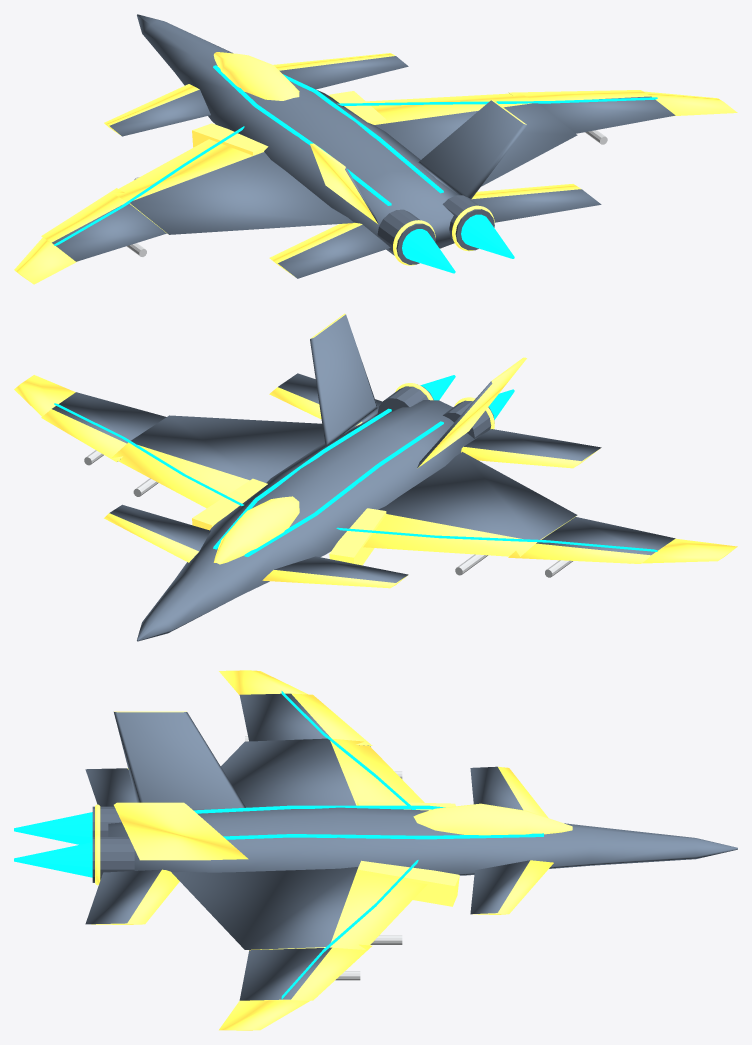
File: Condor_X.glb
The picture shows the model from 3 angles, top to bottom: view 1: azimuth 30°, elevation 25°; view 2: azimuth 150°, elevation 25°; view 3: azimuth 270°, elevation 25°; orthographic projection. The views are drawn at different scales.
Visible parts, largest first — view 1: Fuselaje_Condor, Ala_Principal_Condor_-1.0, Ala_Principal_Condor_1.0, VTail_1.0, Pluma_1_-1.0, Pluma_1_1.0, Stabilator_Condor_-1.0, Stabilator_Condor_1.0, Canard_Condor_-1.0, Canard_Condor_1.0, Cabina_Condor, VTail_-1.0 (+12 smaller); view 2: Fuselaje_Condor, Ala_Principal_Condor_-1.0, Ala_Principal_Condor_1.0, VTail_1.0, Pluma_1_-1.0, Pluma_1_1.0, Stabilator_Condor_-1.0, Cabina_Condor, Canard_Condor_-1.0, Canard_Condor_1.0, VTail_-1.0, Cube (+10 smaller); view 3: Fuselaje_Condor, Ala_Principal_Condor_1.0, Ala_Principal_Condor_-1.0, VTail_-1.0, VTail_1.0, Pluma_1_1.0, Pluma_1_-1.0, Stabilator_Condor_1.0, Cabina_Condor, Canard_Condor_1.0, Canard_Condor_-1.0, Cube.001 (+9 smaller).
Part boxes in pixels (x1=…): Fuselaje_Condor: x1=137, y1=14, x2=458, y2=248; Ala_Principal_Condor_-1.0: x1=112, y1=139, x2=353, y2=234; Ala_Principal_Condor_1.0: x1=366, y1=93, x2=577, y2=186; VTail_1.0: x1=418, y1=99, x2=526, y2=199; Pluma_1_-1.0: x1=41, y1=188, x2=166, y2=261; Pluma_1_1.0: x1=508, y1=90, x2=675, y2=133; Stabilator_Condor_-1.0: x1=269, y1=222, x2=390, y2=278; Stabilator_Condor_1.0: x1=471, y1=184, x2=601, y2=222; Canard_Condor_-1.0: x1=104, y1=84, x2=210, y2=136; Canard_Condor_1.0: x1=274, y1=53, x2=408, y2=89; Cabina_Condor: x1=213, y1=52, x2=299, y2=100; VTail_-1.0: x1=310, y1=143, x2=377, y2=223; Fuselaje_Condor: x1=137, y1=400, x2=482, y2=641; Ala_Principal_Condor_-1.0: x1=363, y1=452, x2=577, y2=556; Ala_Principal_Condor_1.0: x1=111, y1=415, x2=324, y2=508; VTail_1.0: x1=310, y1=313, x2=378, y2=445; Pluma_1_-1.0: x1=508, y1=517, x2=675, y2=563; Pluma_1_1.0: x1=41, y1=392, x2=166, y2=462; Stabilator_Condor_-1.0: x1=461, y1=429, x2=601, y2=468; Cabina_Condor: x1=213, y1=496, x2=299, y2=564; Canard_Condor_-1.0: x1=262, y1=556, x2=408, y2=588; Canard_Condor_1.0: x1=104, y1=504, x2=210, y2=562; VTail_-1.0: x1=417, y1=357, x2=526, y2=468; Cube: x1=329, y1=508, x2=386, y2=565; Fuselaje_Condor: x1=108, y1=807, x2=737, y2=875; Ala_Principal_Condor_1.0: x1=171, y1=866, x2=427, y2=950; Ala_Principal_Condor_-1.0: x1=221, y1=738, x2=424, y2=807; VTail_-1.0: x1=114, y1=711, x2=245, y2=813; VTail_1.0: x1=114, y1=802, x2=248, y2=860; Pluma_1_1.0: x1=239, y1=944, x2=372, y2=1000; Pluma_1_-1.0: x1=239, y1=693, x2=372, y2=746; Stabilator_Condor_1.0: x1=85, y1=869, x2=179, y2=924; Cabina_Condor: x1=413, y1=803, x2=572, y2=835; Canard_Condor_1.0: x1=470, y1=860, x2=553, y2=914; Canard_Condor_-1.0: x1=470, y1=766, x2=548, y2=817; Cube.001: x1=357, y1=860, x2=459, y2=906.
Size of the model in its own units: 8.1 by 1.16 by 6.9.
